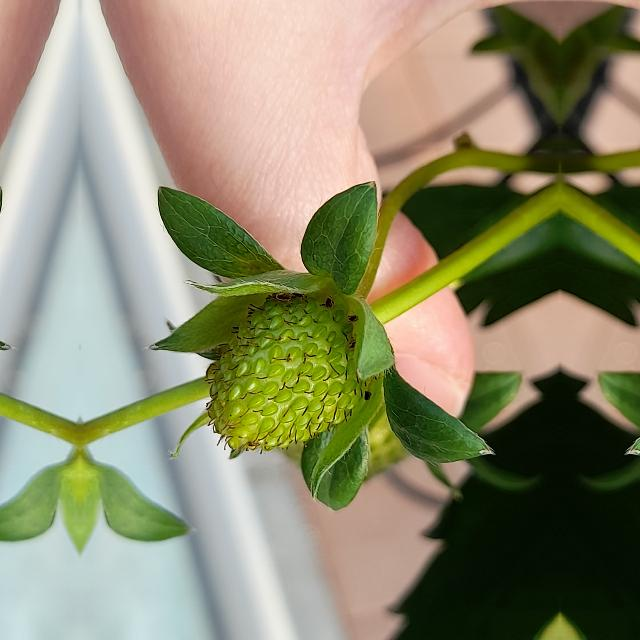Health_25: (204, 291, 370, 455)
